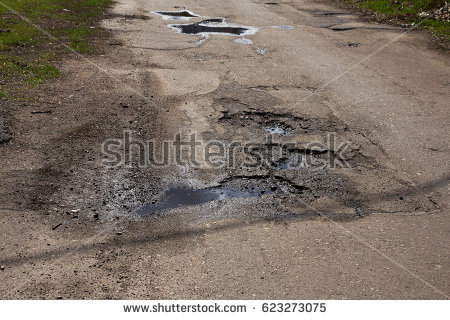pothole: (78, 167, 341, 230), (212, 97, 318, 155)
